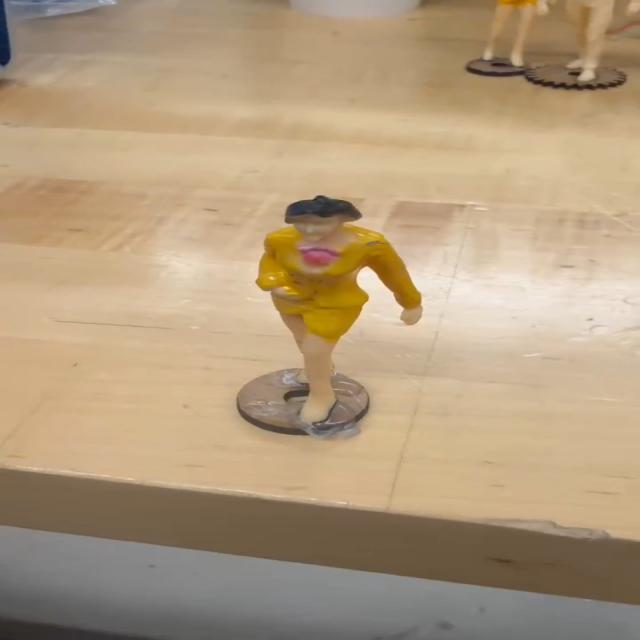Authorized: (231, 188, 429, 435)
